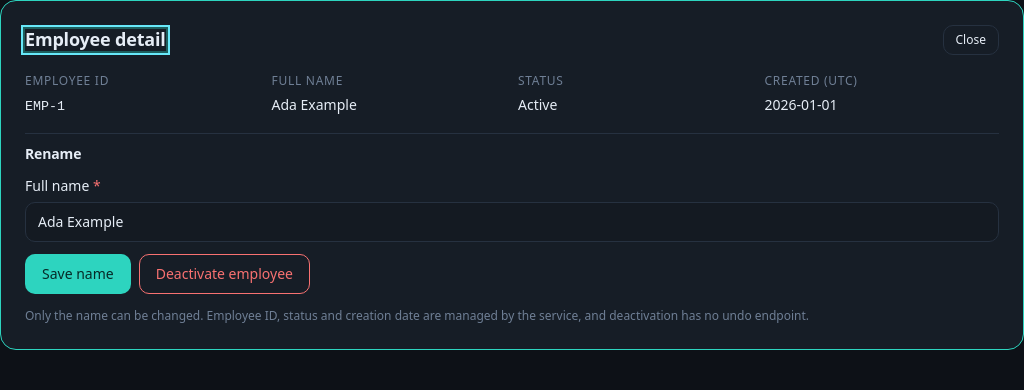
it: employee detail › reports a rename conflict on the name field
Expected: the text "Ada Example" is shown, [272,95,357,114]
Click the button "Save name".
click(78, 274)  # box [25,254,131,294]
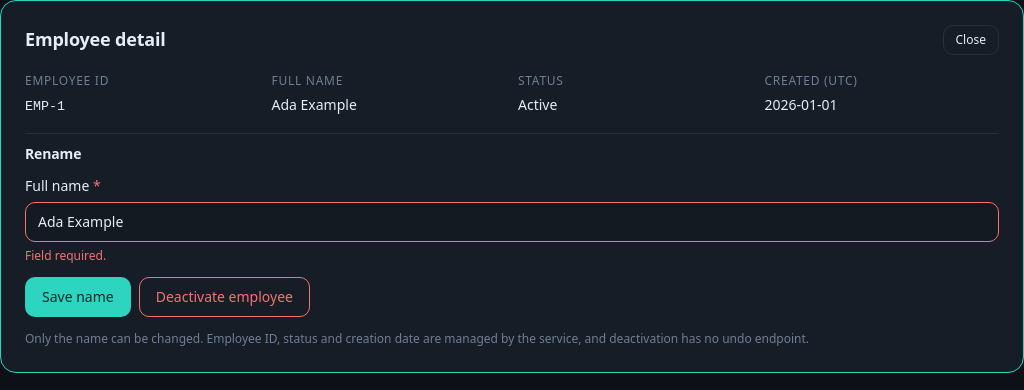
Result: the text "Field required." is shown at [25,247,106,264]
